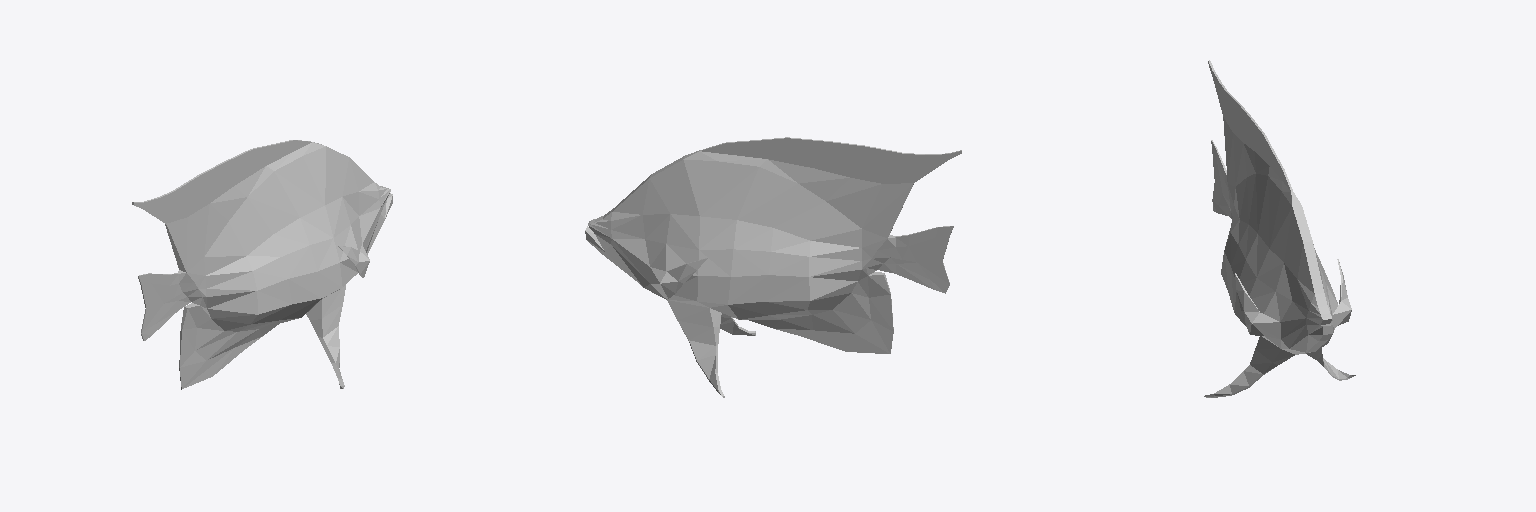
The model's file is pez2.obj.
The picture shows the model from 3 angles: view 1: azimuth 30°, elevation 25°; view 2: azimuth 150°, elevation 25°; view 3: azimuth 270°, elevation 25°; orthographic projection.
Parts seen in each view (by area): view 1: TropicalFish15:TropicalFish15; view 2: TropicalFish15:TropicalFish15; view 3: TropicalFish15:TropicalFish15.
Boxes of the visible parts, x1,y1,x2,y2 form: TropicalFish15:TropicalFish15: [132, 140, 392, 389]; TropicalFish15:TropicalFish15: [585, 137, 961, 397]; TropicalFish15:TropicalFish15: [1204, 60, 1355, 397].
Size of the model in its own units: 3.57 by 2.54 by 1.48.